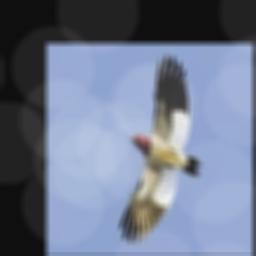Woodpecker: (120, 53, 202, 243)
